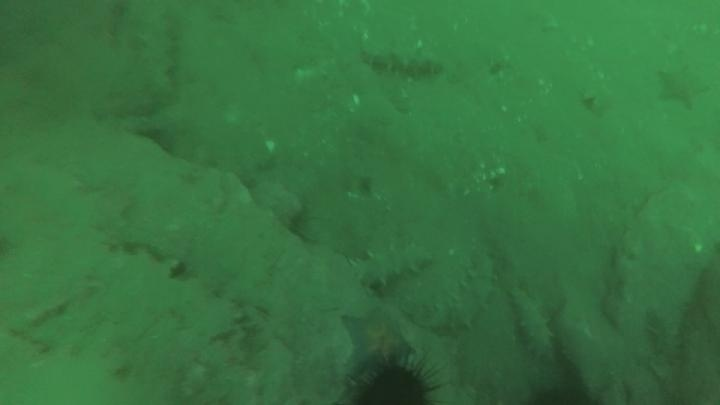echinus: (347, 356, 442, 404)
holothurian: (427, 247, 501, 336), (349, 239, 435, 293), (135, 7, 183, 102), (507, 284, 557, 363), (358, 41, 446, 81)
starfish: (338, 307, 415, 376), (654, 63, 710, 112)
